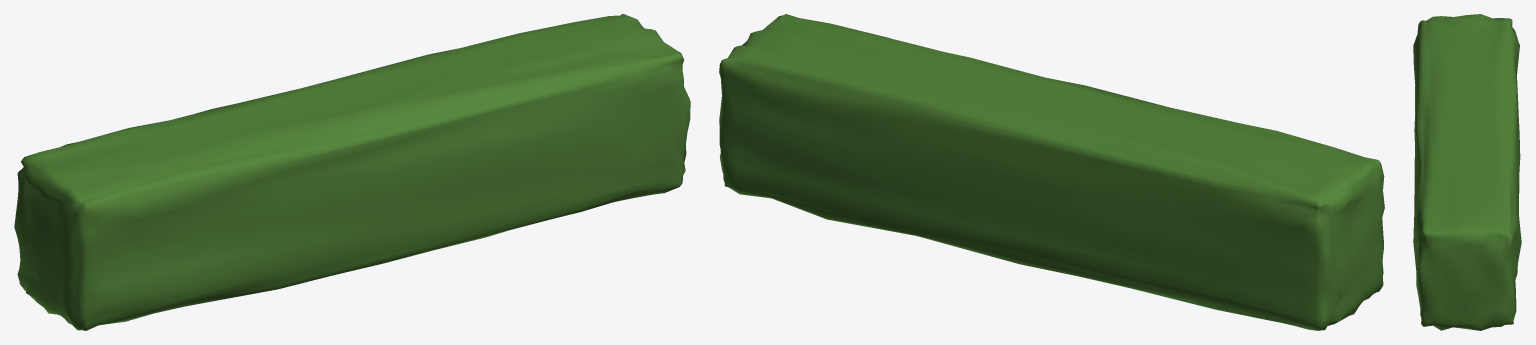
File: Rempart_Haie.fbx
The picture shows the model from 3 angles, left to right: view 1: azimuth 30°, elevation 25°; view 2: azimuth 150°, elevation 25°; view 3: azimuth 270°, elevation 25°; orthographic projection. The views are drawn at different scales.
Parts seen in each view (by area): view 1: Haie; view 2: Haie; view 3: Haie.
Part boxes in pixels (<box>): Haie: <box>14,14,690,330</box>; Haie: <box>719,14,1384,330</box>; Haie: <box>1413,14,1521,330</box>.
Bounding box in the file's own units: 15.29 × 3.52 × 3.17.
